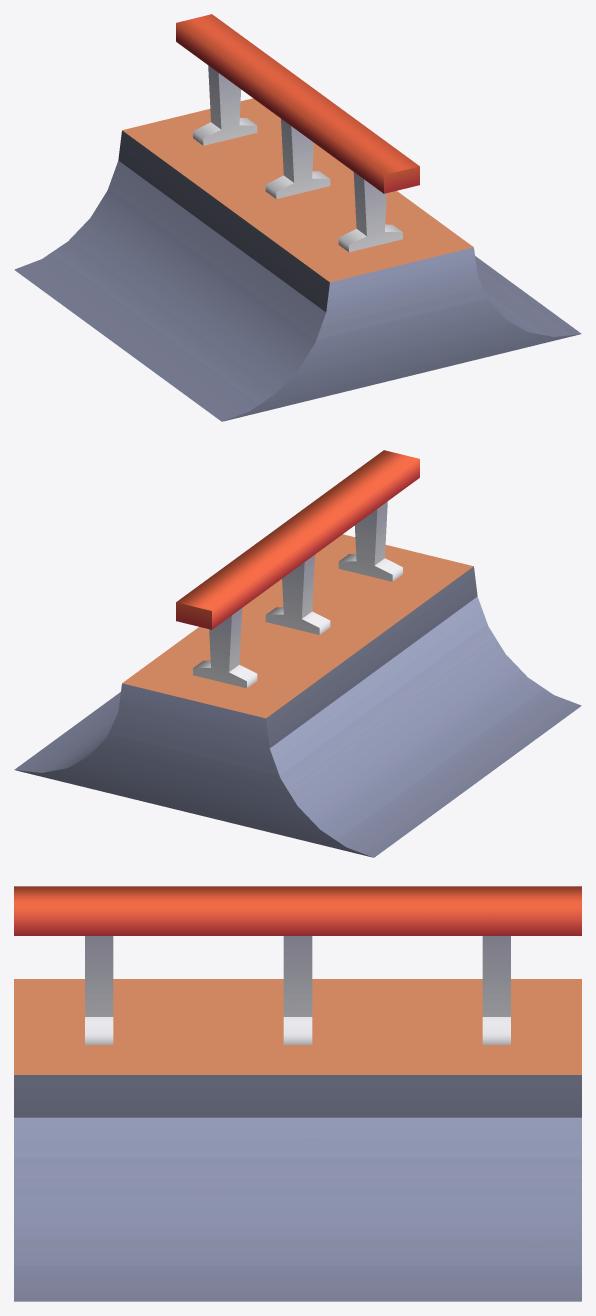
The model's file is kenney-mini-skate-obstacle-middle.glb.
The picture shows the model from 3 angles, top to bottom: view 1: azimuth 30°, elevation 25°; view 2: azimuth 150°, elevation 25°; view 3: azimuth 270°, elevation 25°; orthographic projection. The views are drawn at different scales.
Parts seen in each view (by area): view 1: obstacle-middle; view 2: obstacle-middle; view 3: obstacle-middle.
Part boxes in pixels (x1,y1,x2,y2): obstacle-middle: [14, 14, 581, 421]; obstacle-middle: [14, 450, 581, 857]; obstacle-middle: [14, 886, 581, 1301].
Bounding box in the file's own units: 1 × 0.55 × 1.
1 material, 1 textured.
